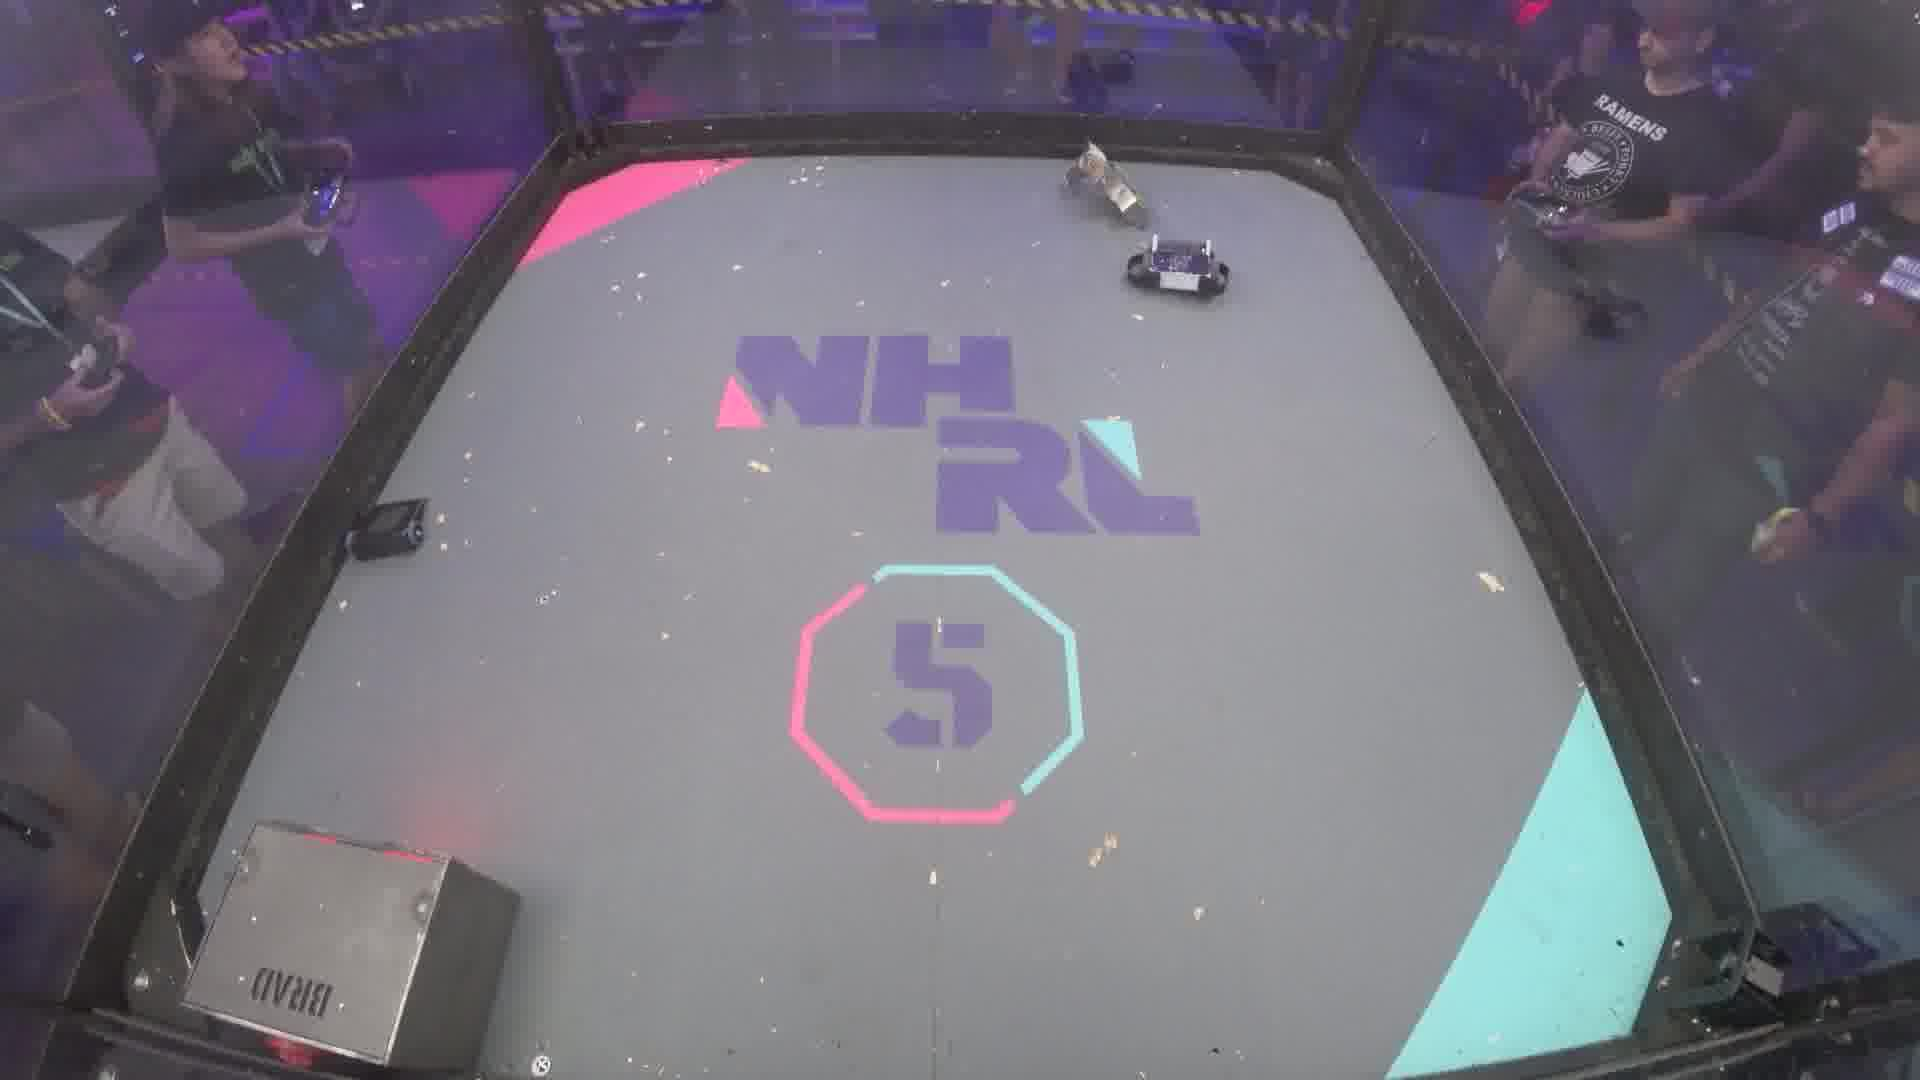combatbot: (1056, 142, 1149, 228), (1122, 237, 1234, 305)
housebot: (183, 818, 518, 1069)
minibot: (342, 497, 436, 563)
